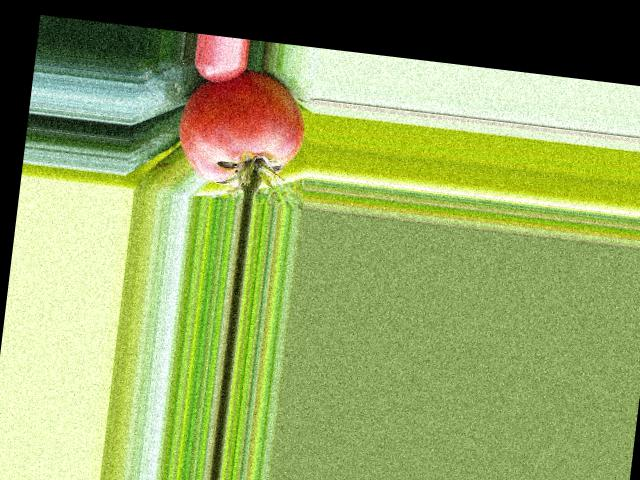tomato: (174, 62, 310, 191)
